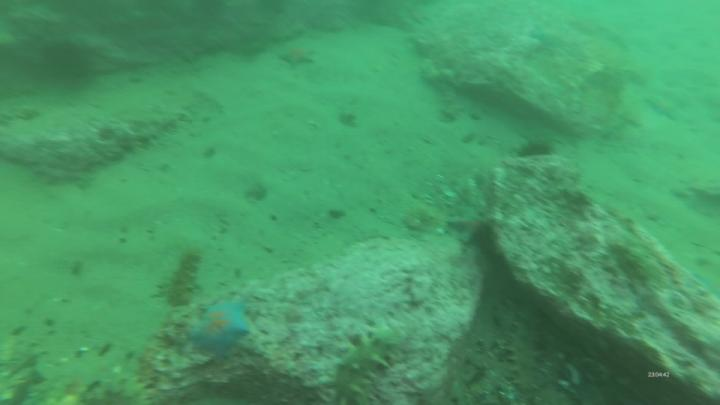echinus: (39, 40, 95, 91)
holothurian: (335, 327, 400, 401), (506, 302, 547, 393), (166, 248, 205, 303), (78, 381, 151, 405)
starfish: (193, 302, 250, 357), (452, 207, 490, 246), (282, 44, 314, 69)
